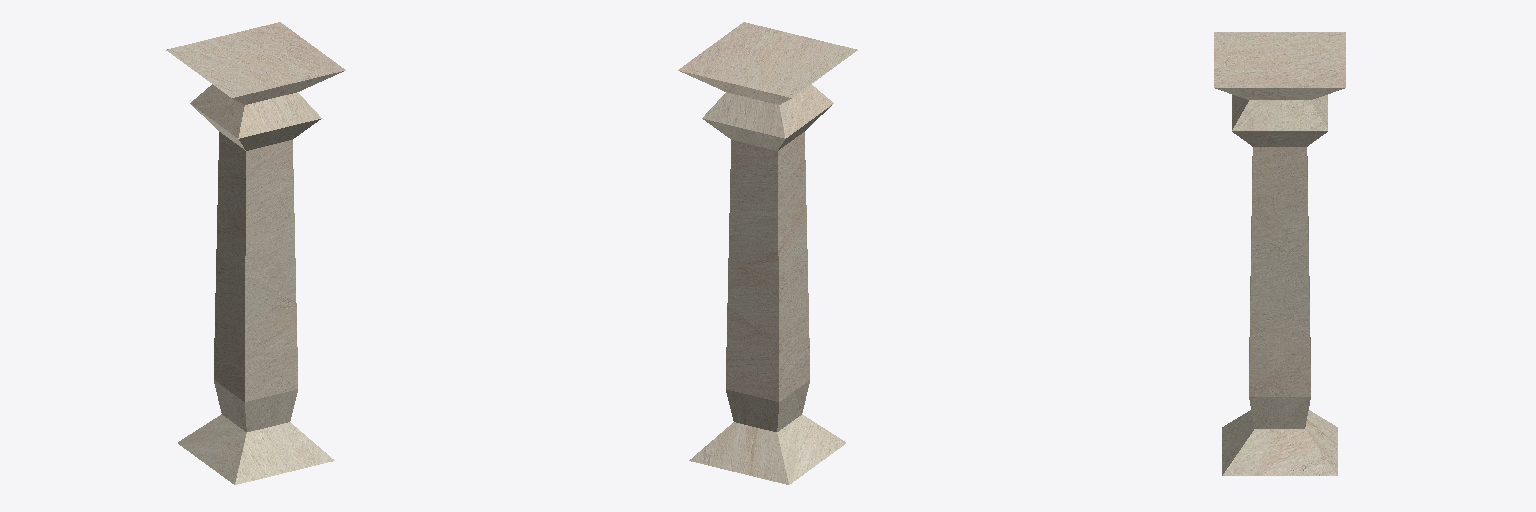
The picture shows the model from 3 angles: view 1: azimuth 30°, elevation 25°; view 2: azimuth 150°, elevation 25°; view 3: azimuth 270°, elevation 25°; orthographic projection.
Parts seen in each view (by area): view 1: 立方体; view 2: 立方体; view 3: 立方体.
Boxes of the visible parts, <box> form: 立方体: <box>166,22,345,484</box>; 立方体: <box>678,22,857,484</box>; 立方体: <box>1214,32,1345,475</box>.
Bounding box in the file's own units: 5.33 × 17.4 × 5.33.
1 materials, 1 textured.